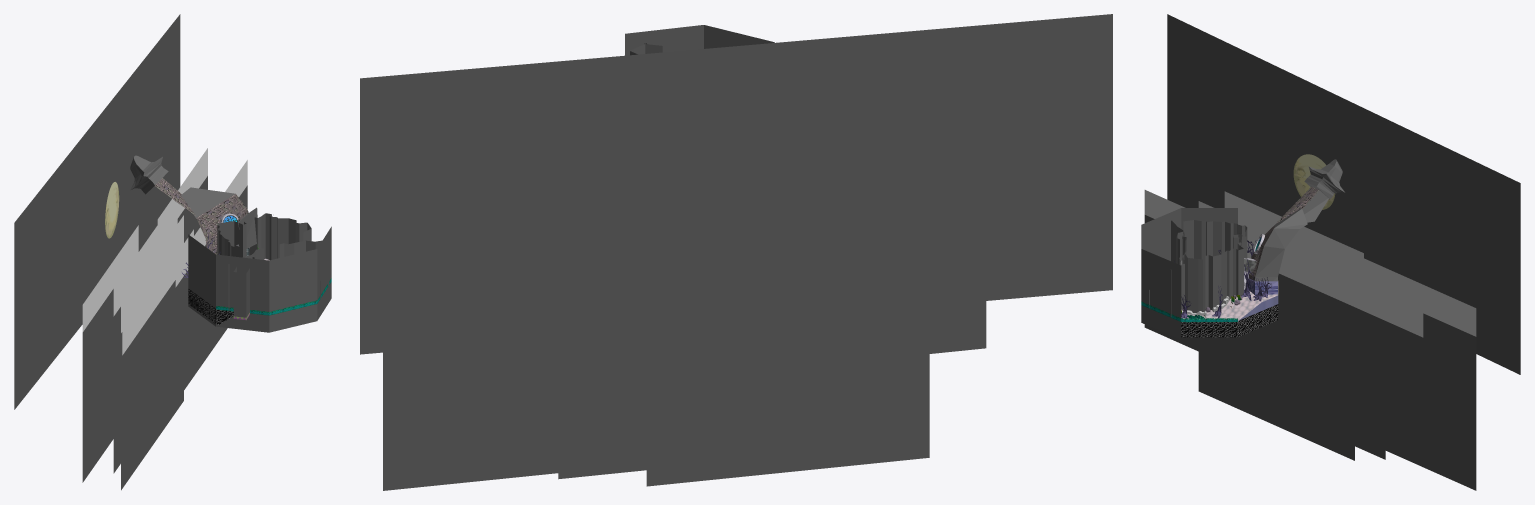
File: gra_06_bake.dae
3 views of the same model, side by side, from view 1: azimuth 30°, elevation 25°; view 2: azimuth 150°, elevation 25°; view 3: azimuth 270°, elevation 25° (orthographic). The views are drawn at different scales.
Visible parts, largest first — view 1: pPlane364_q044, a_zimen02, polySurface953_q038_part0, polySurface953_q037_part0, polySurface953_q039_part0, polySurface953_q040_part1, polySurface953_q036_part1, a_niwa01, polySurface953_q040_part0, polySurface953_q037_part1, polySurface953_q038_part1, polySurface953_q036_part0 (+14 smaller); view 2: pPlane364_q044, polySurface953_q037_part0, polySurface953_q041_part0, polySurface953_q038_part0, a_zimen02, polySurface953_q036_part0; view 3: pPlane364_q044, polySurface953_q039_part0, polySurface953_q041_part0, polySurface953_q040_part0, a_zimen02, polySurface953_q039_part1, a_niwa01, polySurface953_q041_part1, polySurface953_q036_part1, a_niwa02, pCube3_q008_part1, polySurface953_q038_part0 (+11 smaller).
Boxes of the visible parts, x1,y1,x2,y2 form: pPlane364_q044: (14, 14, 180, 409); a_zimen02: (188, 226, 331, 332); polySurface953_q038_part0: (122, 280, 175, 465); polySurface953_q037_part0: (82, 289, 113, 482); polySurface953_q039_part0: (175, 185, 247, 401); polySurface953_q040_part1: (121, 215, 183, 332); polySurface953_q036_part1: (113, 201, 177, 316); a_niwa01: (249, 213, 311, 260); polySurface953_q040_part0: (121, 332, 183, 490); polySurface953_q037_part1: (82, 225, 138, 331); polySurface953_q038_part1: (122, 229, 193, 355); polySurface953_q036_part0: (113, 307, 120, 473); pPlane364_q044: (360, 14, 1112, 354); polySurface953_q037_part0: (646, 306, 929, 486); polySurface953_q041_part0: (383, 331, 637, 490); polySurface953_q038_part0: (929, 301, 986, 353); a_zimen02: (625, 25, 774, 55); polySurface953_q036_part0: (558, 330, 646, 479); pPlane364_q044: (1167, 14, 1520, 374); polySurface953_q039_part0: (1245, 273, 1423, 454); polySurface953_q041_part0: (1385, 313, 1476, 490); polySurface953_q040_part0: (1198, 352, 1354, 460); a_zimen02: (1141, 208, 1237, 339); polySurface953_q039_part1: (1247, 233, 1423, 337); a_niwa01: (1184, 241, 1247, 312); polySurface953_q041_part1: (1351, 252, 1476, 336); polySurface953_q036_part1: (1226, 199, 1385, 294); a_niwa02: (1183, 220, 1247, 259); pCube3_q008_part1: (1255, 208, 1307, 281); polySurface953_q038_part0: (1144, 215, 1245, 371).
Bounding box in the file's own units: 309 × 255 × 277.
